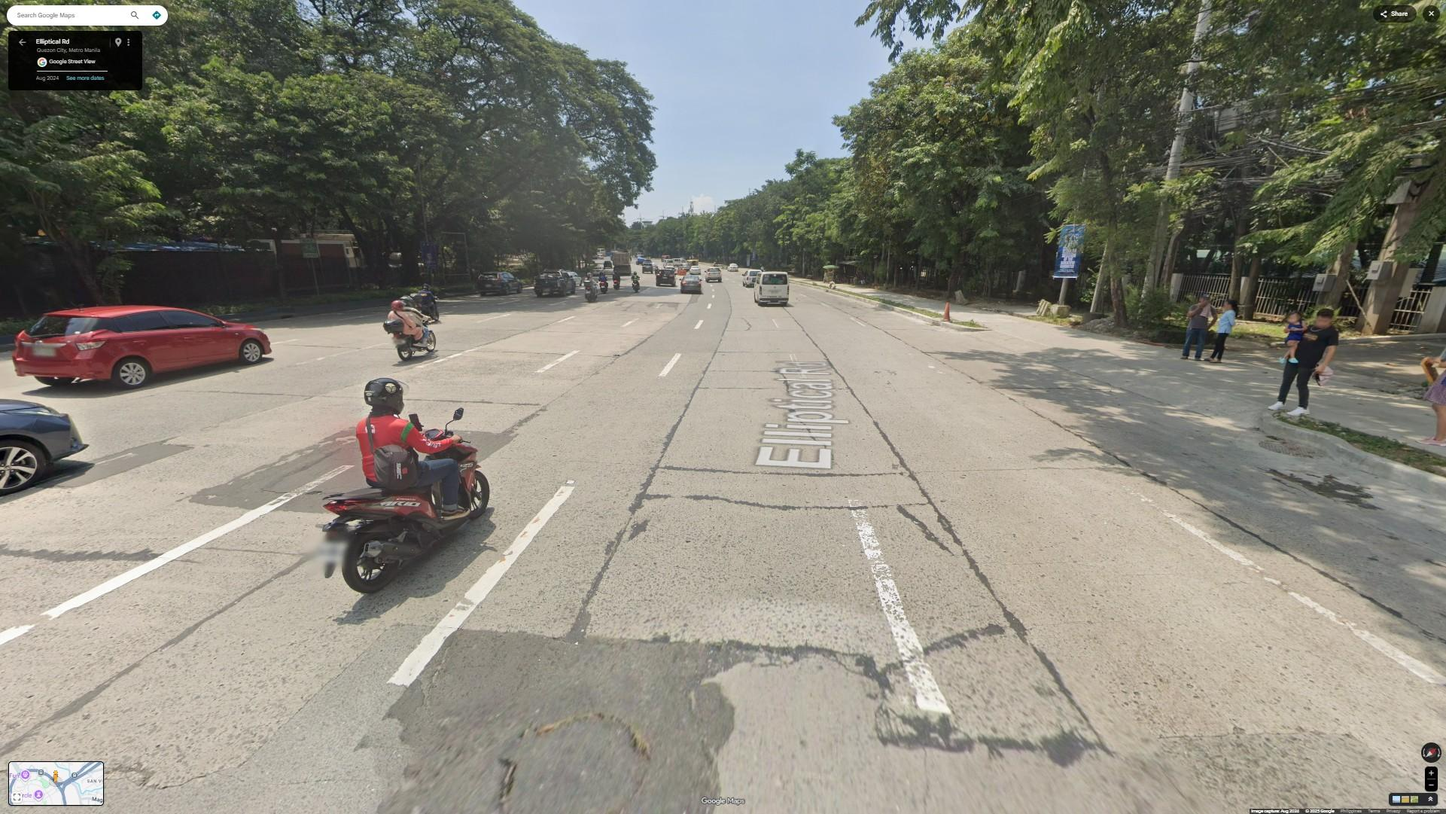pedestrian: (1266, 306, 1339, 419), (1414, 324, 1446, 448), (1179, 293, 1218, 361), (1202, 298, 1240, 365)
